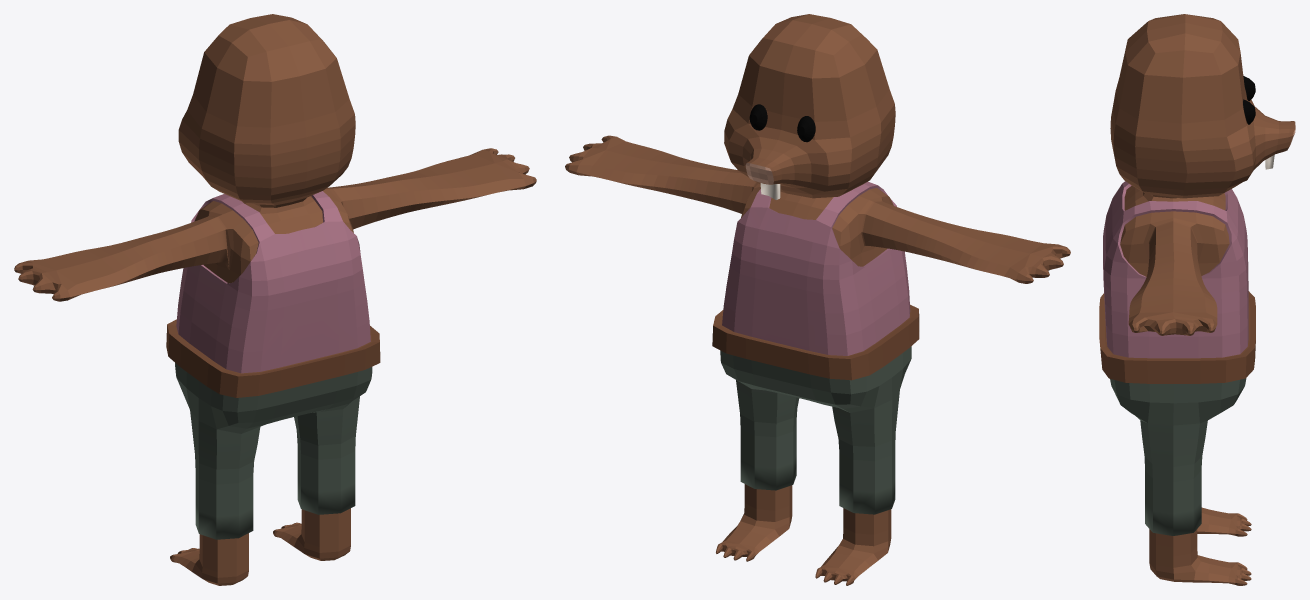
Rendered from NPC.fbx.
3 views of the same model, side by side, from view 1: azimuth 30°, elevation 25°; view 2: azimuth 150°, elevation 25°; view 3: azimuth 270°, elevation 25° (orthographic). The views are drawn at different scales.
Visible parts, largest first — view 1: NPC, Pantalon, Camiseta; view 2: NPC, Pantalon, Camiseta; view 3: NPC, Pantalon, Camiseta.
Part boxes in pixels (x1,y1,x2,y2): NPC: (14,14,536,585); Pantalon: (166,319,380,539); Camiseta: (176,191,370,373); NPC: (565,14,1070,585); Pantalon: (712,304,919,514); Camiseta: (722,181,910,355); NPC: (1110,14,1295,585); Pantalon: (1099,291,1255,535); Camiseta: (1103,181,1248,358).
Bounding box in the file's own units: 171 × 178 × 59.64.
